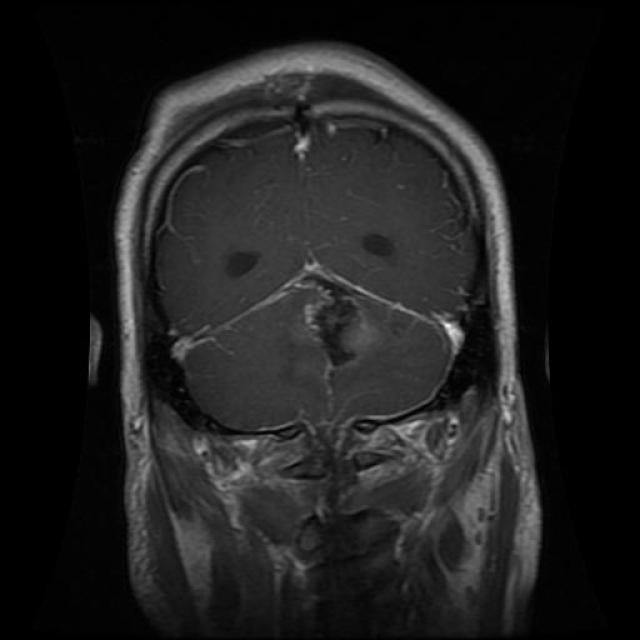glioma: (297, 294, 377, 373)
